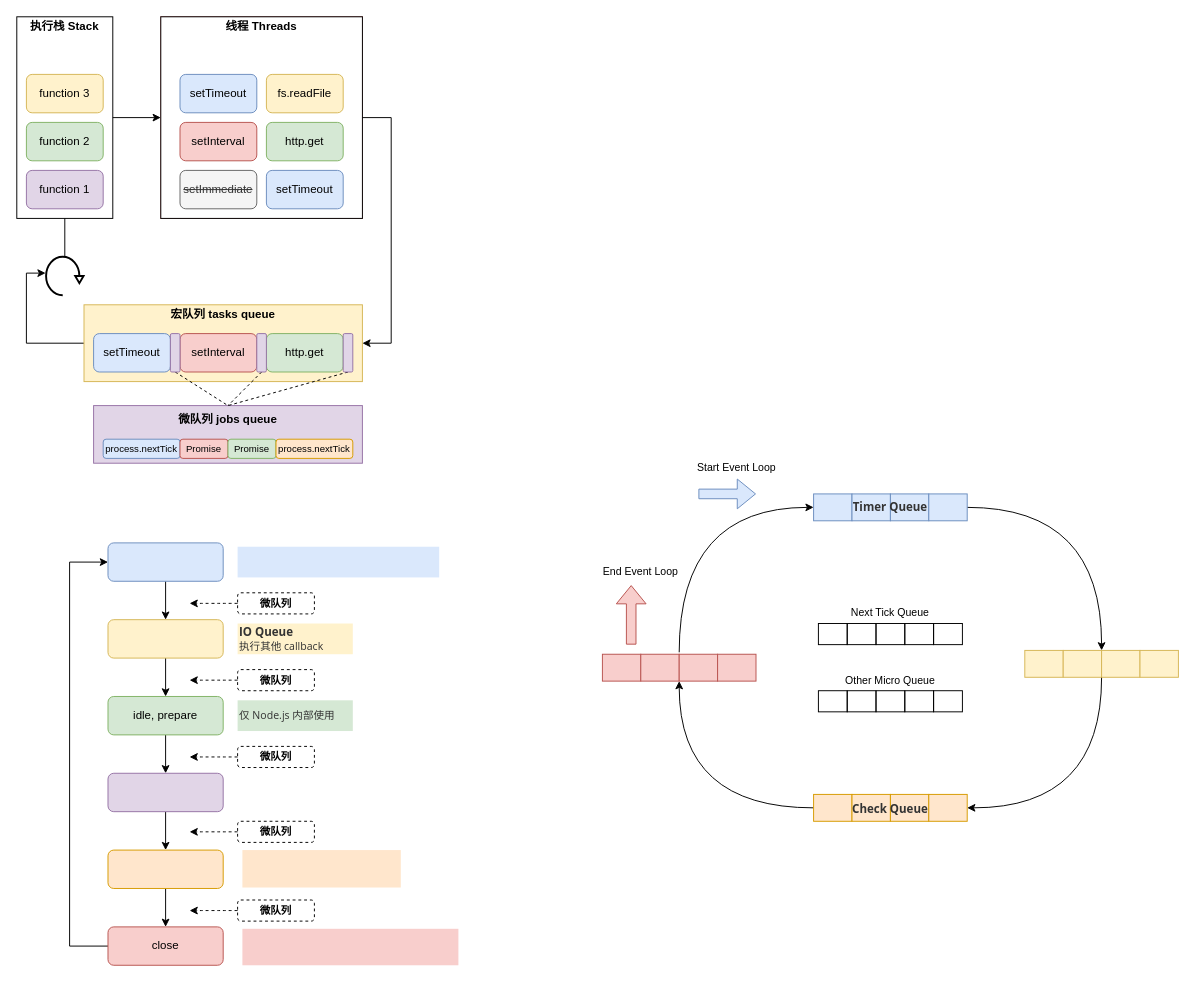
Image size: 1195x982. Some labels were removed from this diagram. The box of each missing label's shape, as (x1, y1, x2, y2) in pixels:
check: (107, 849, 223, 888)
Check Queue setImmediate()设定的callbacks: (242, 850, 400, 887)
Close Queue: (678, 653, 718, 681)
Close Queue 执行socket.on('close', ....)这些callbacks: (242, 928, 458, 965)
IO callbacks: (107, 619, 223, 658)
IO Queue: (1101, 649, 1140, 677)
poll: (107, 772, 223, 812)
Timer Queue setTimeout 、setInterval 预定的 callback: (237, 546, 439, 577)
timers: (107, 542, 223, 581)
